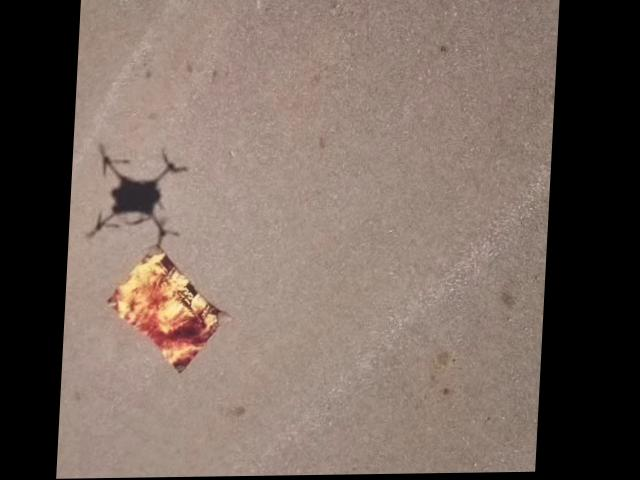fire-poster: (104, 245, 236, 376)
